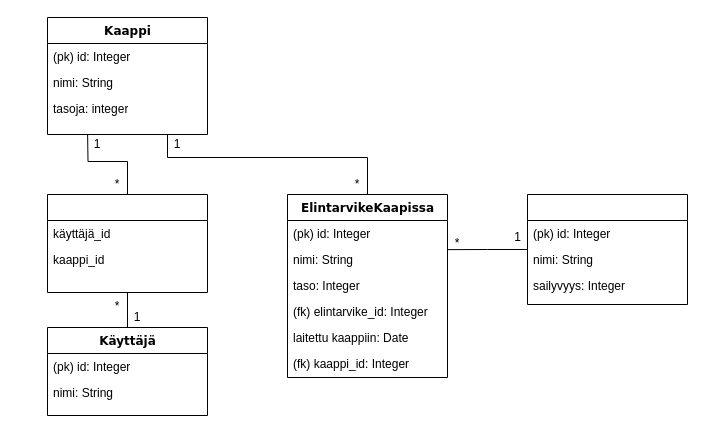
This 705x433 diagram has some shape labels left out. Each missing label, with the box of its shape:
Elintarvike: (526, 194, 688, 304)
KäyttäjäKaappi: (46, 194, 208, 292)
